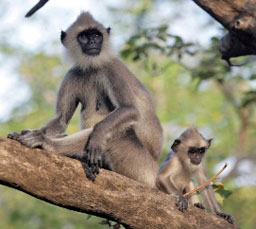Monkey: (39, 5, 169, 193), (155, 121, 235, 222)
